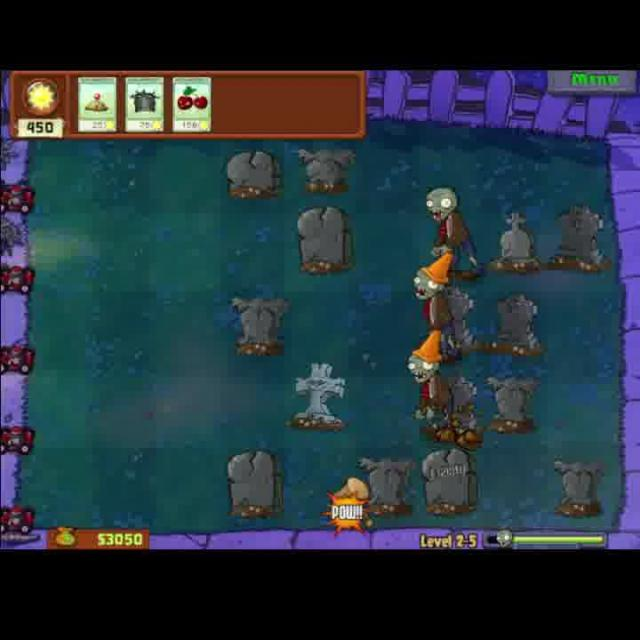coins: (399, 334, 473, 454), (403, 250, 470, 362), (420, 178, 482, 279)
